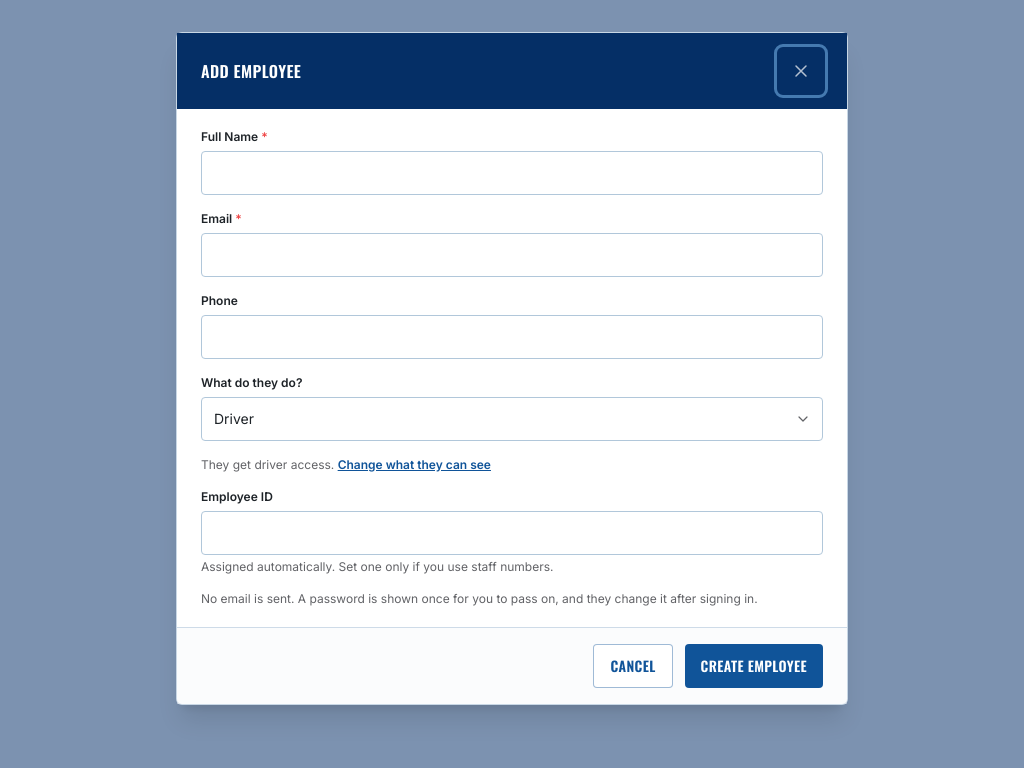
EmployeeModal duplicate details › names the employee holding a duplicate Employee ID before asking the server
Type "Owner" into the field labelled "Employee ID" at (512, 533), box [201,511,823,555]
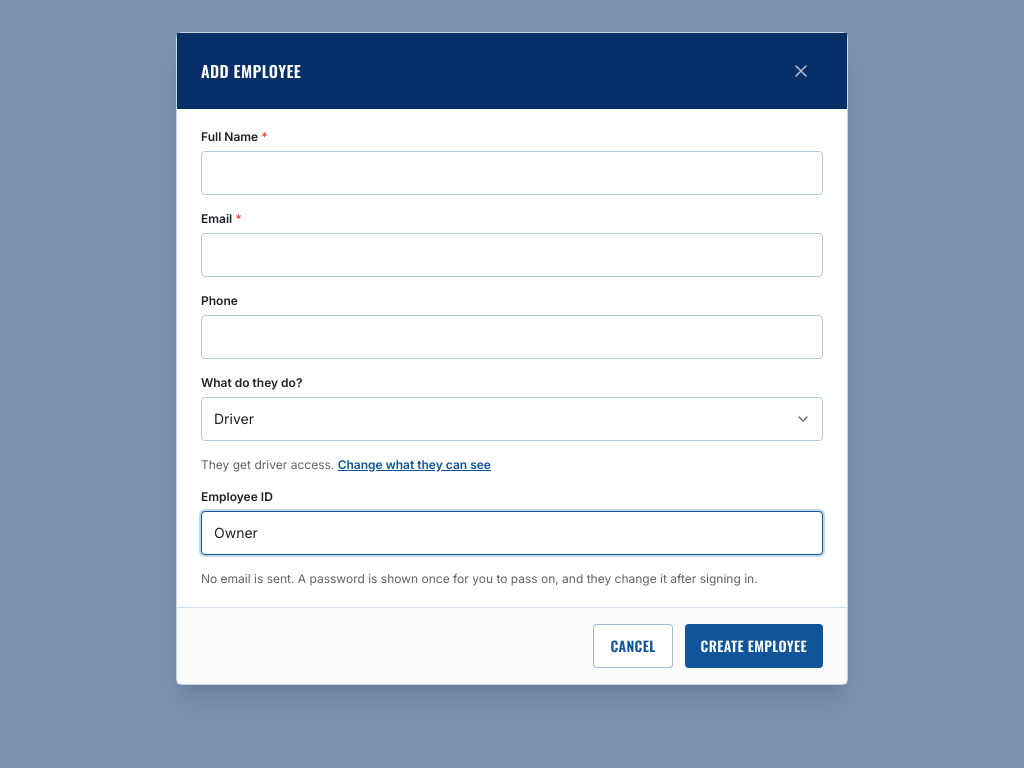
Type "Norberto Angulo" into the field labelled "Full Name *" at (512, 173), box [201,151,823,195]
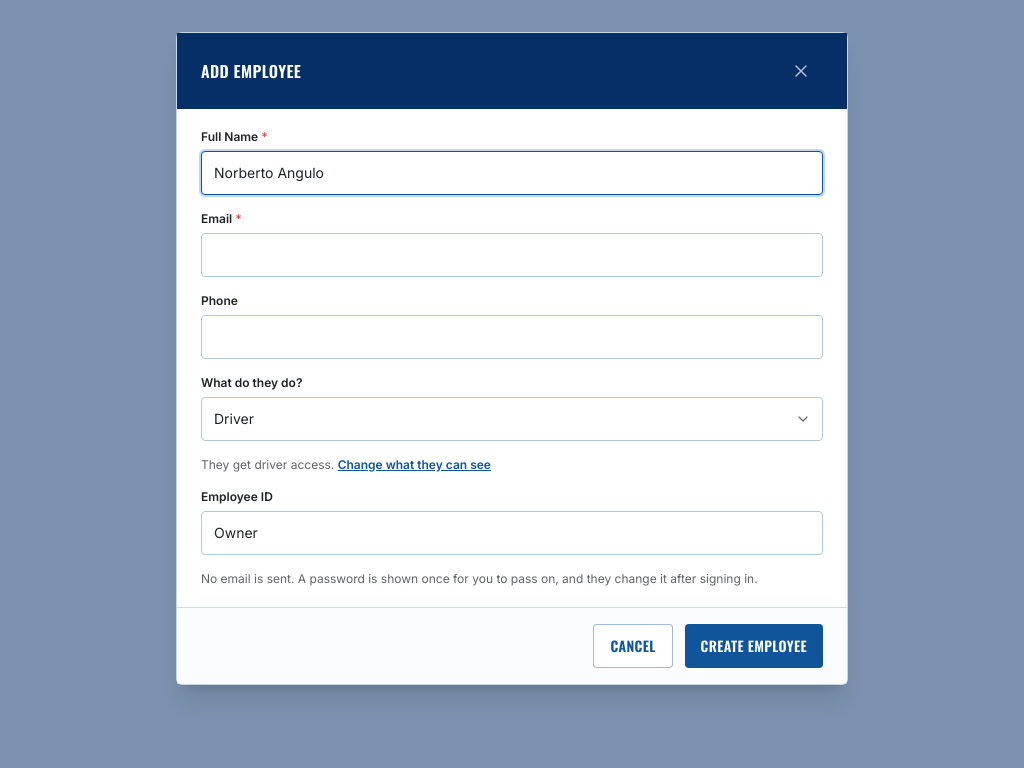
Type "nangulo@sswsco.com" into the field labelled "Email *" at (512, 255), box [201,233,823,277]
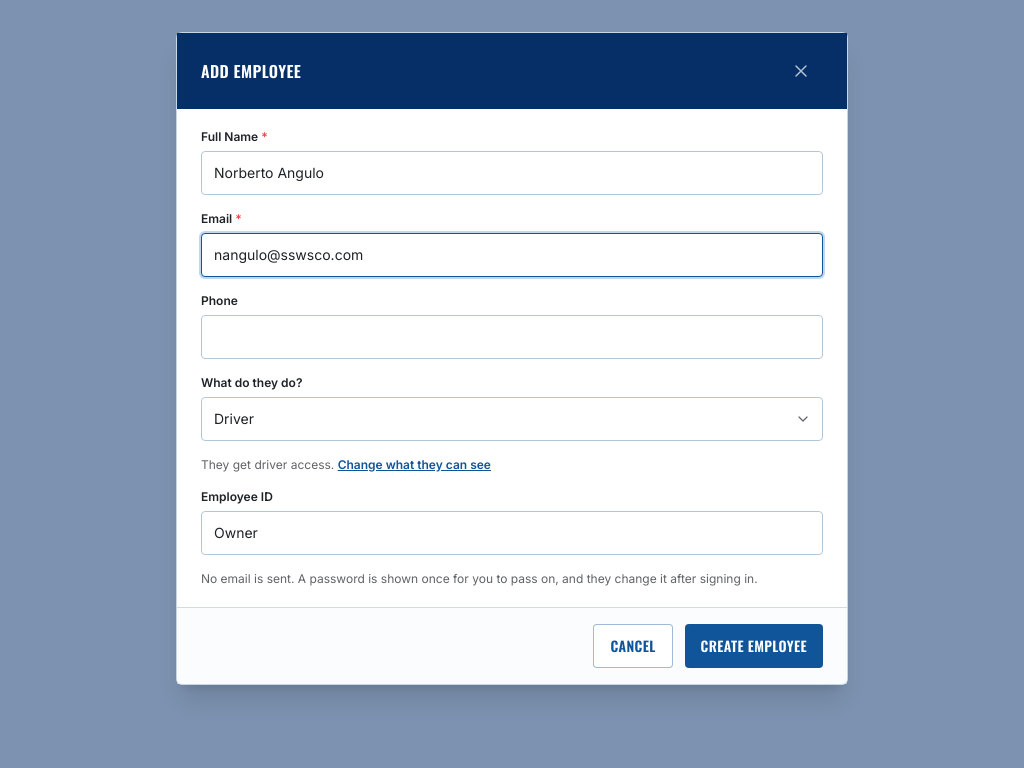
Click the button "Create Employee" at (754, 646), box [685,624,823,668]
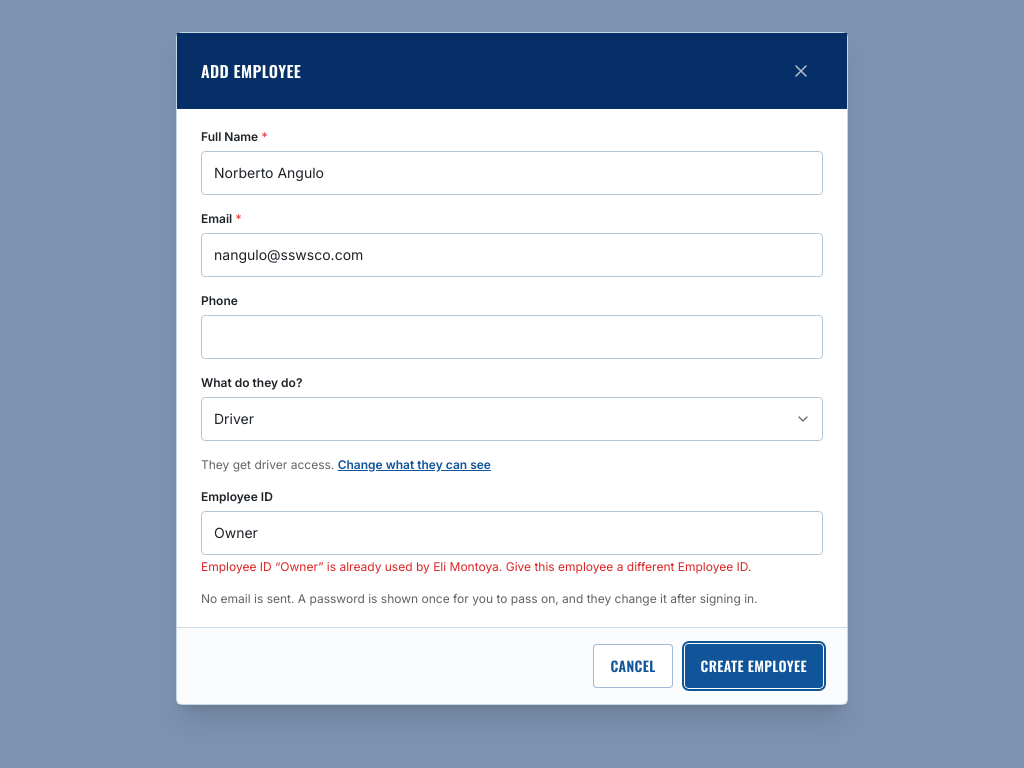
expect the message shows "already used by Eli Montoya": met, box [201,559,751,574]
